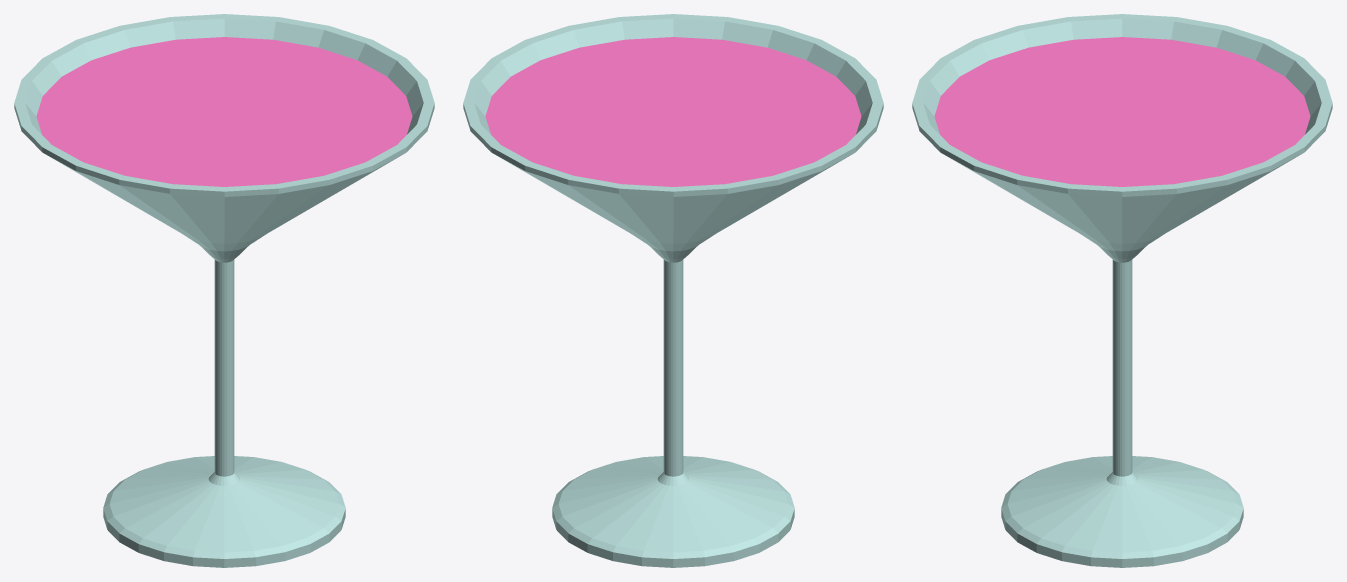
The model's file is Cocktail_01.fbx.
The picture shows the model from 3 angles, left to right: view 1: azimuth 30°, elevation 25°; view 2: azimuth 150°, elevation 25°; view 3: azimuth 270°, elevation 25°; orthographic projection.
Visible parts, largest first — view 1: Cocktail_01; view 2: Cocktail_01; view 3: Cocktail_01.
Part boxes in pixels (left/top/right/bottom): Cocktail_01: left=14, top=14, right=434, bottom=567; Cocktail_01: left=463, top=14, right=883, bottom=567; Cocktail_01: left=912, top=14, right=1332, bottom=567.
Size of the model in its own units: 15.38 by 16.71 by 15.38.
